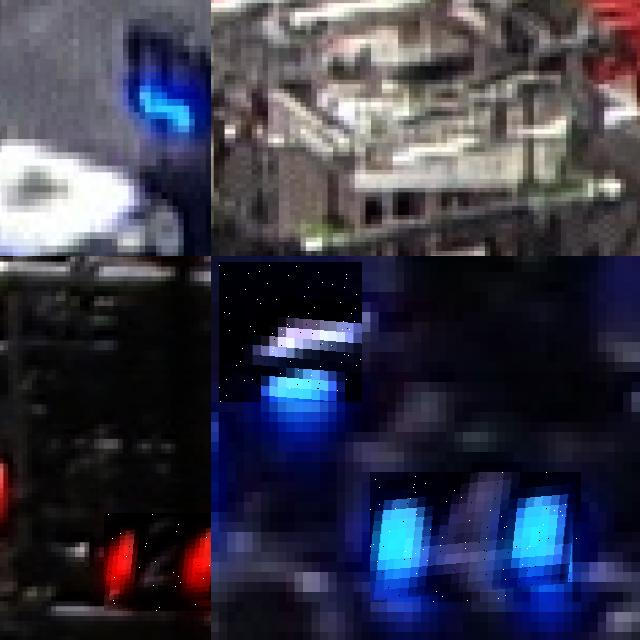B4: (370, 472, 581, 602), (219, 262, 362, 402)
R2: (103, 512, 211, 611)
